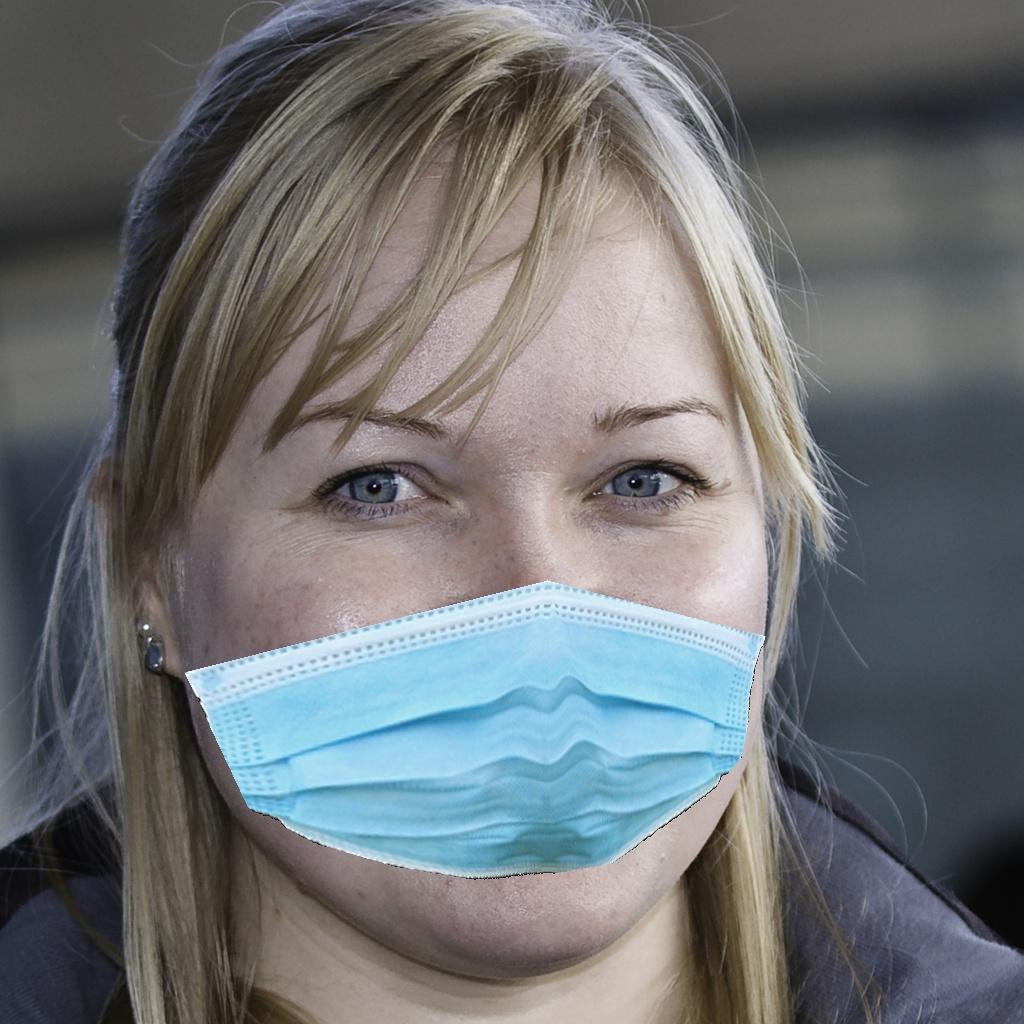Com Máscara: (186, 353, 780, 928)
